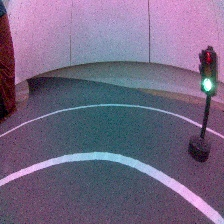green: (184, 43, 223, 166)
